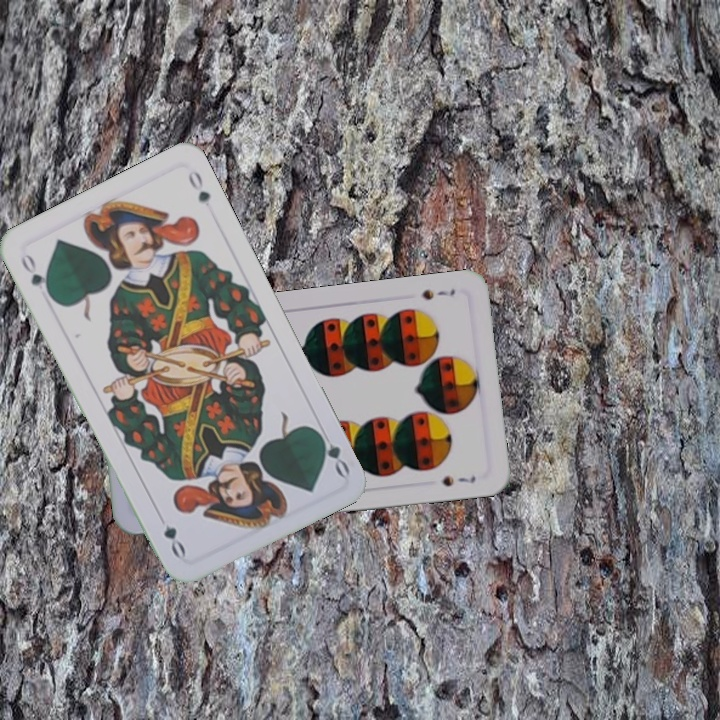GO: (312, 423, 353, 480), (16, 248, 55, 301)
S7: (418, 285, 458, 303)
